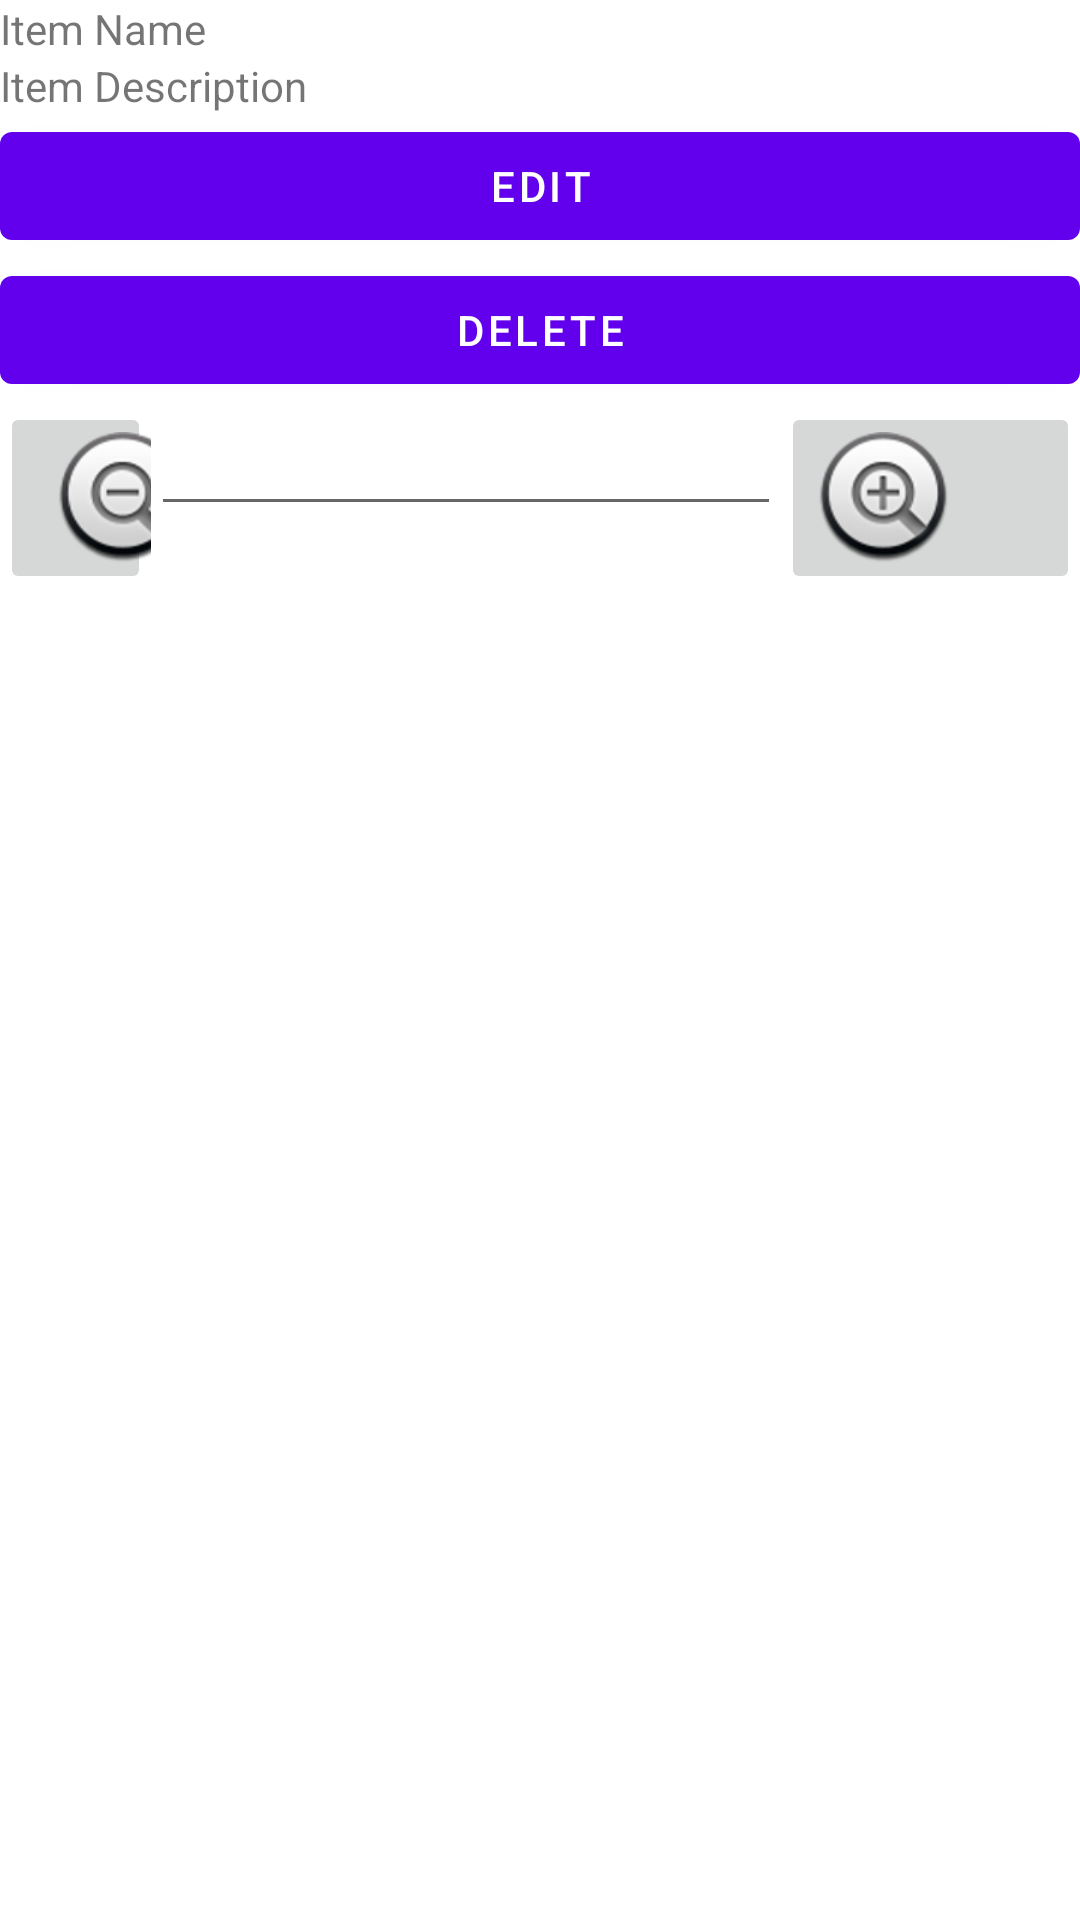

Locate icon controls on the screen. Image size 1080*1920, boxes as bbox=(x1, y1, x2, y2).
minus: bbox=(12, 420, 151, 576)
plus: bbox=(793, 420, 1068, 576)
